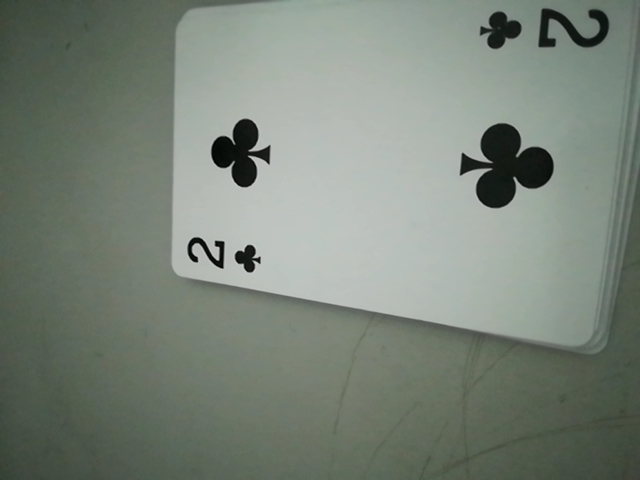mh 2: (477, 2, 612, 60), (179, 229, 273, 282)
